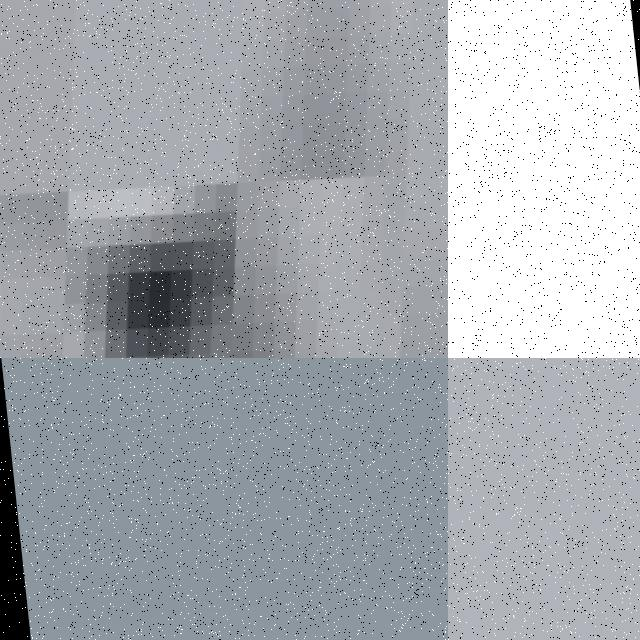drone: (0, 0, 448, 358), (448, 358, 640, 640)
